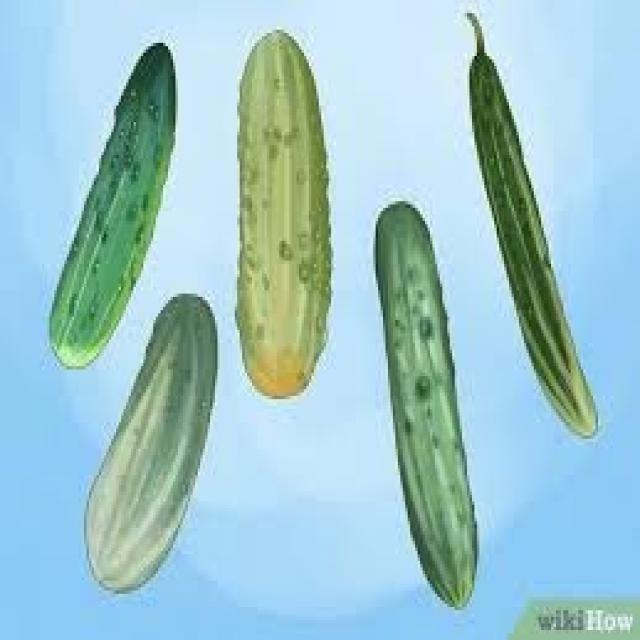cucumber: (42, 33, 180, 379), (368, 194, 479, 614), (230, 17, 334, 416)
